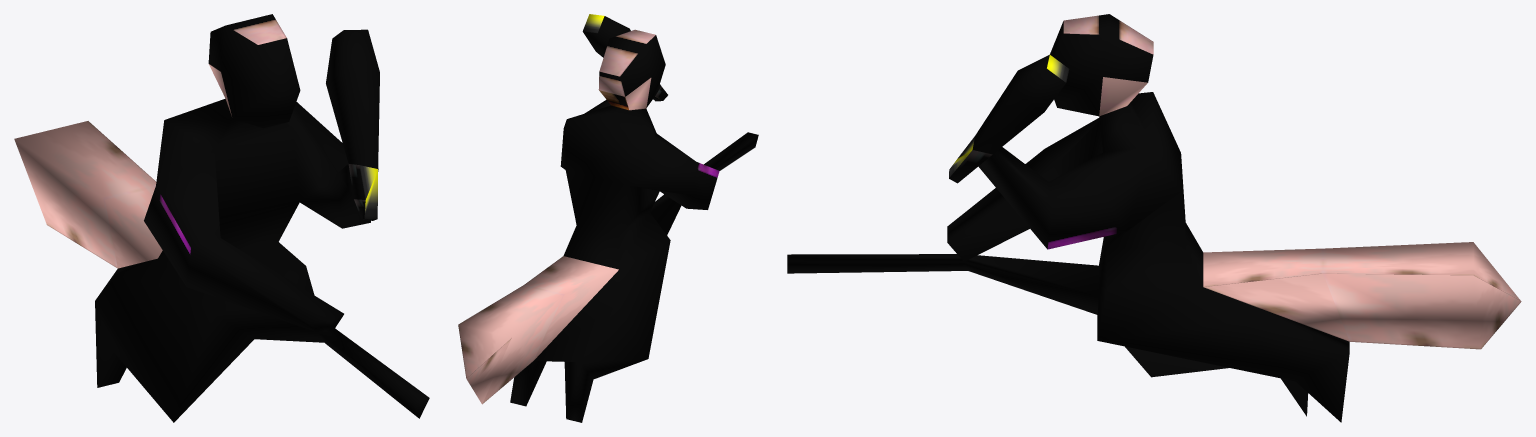
The picture shows the model from 3 angles, left to right: view 1: azimuth 30°, elevation 25°; view 2: azimuth 150°, elevation 25°; view 3: azimuth 270°, elevation 25°; orthographic projection. The views are drawn at different scales.
Visible parts, largest first — view 1: T1L2M008_2; view 2: T1L2M008_2; view 3: T1L2M008_2.
Part boxes in pixels (left/top/right/bottom): T1L2M008_2: left=14, top=14, right=429, bottom=422; T1L2M008_2: left=458, top=14, right=758, bottom=422; T1L2M008_2: left=787, top=14, right=1521, bottom=422.
Size of the model in its own units: 0.5391 by 1.13 by 1.87.
